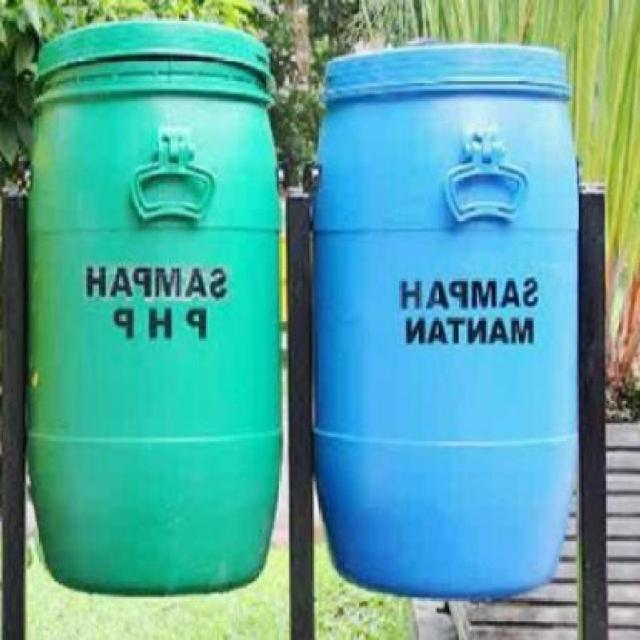garbage container: (305, 42, 584, 609), (23, 9, 285, 608)
